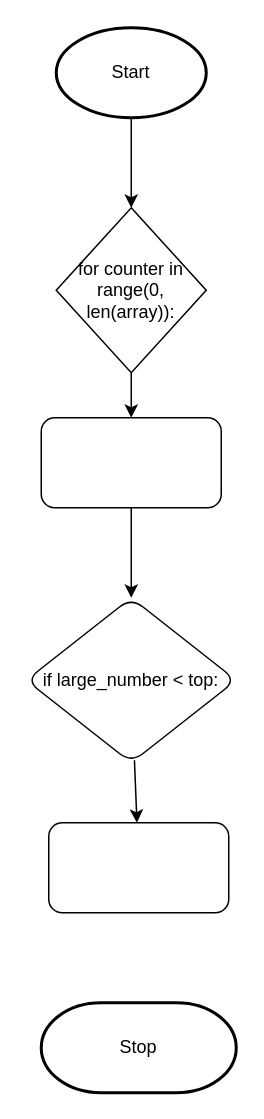
Image size: 264x1119. Some labels were removed from this diagram. Each missing label, with the centre of its shape:
"largeNumber = top" goes at point (138, 867).
"top = array[counter]" goes at point (130, 462).
